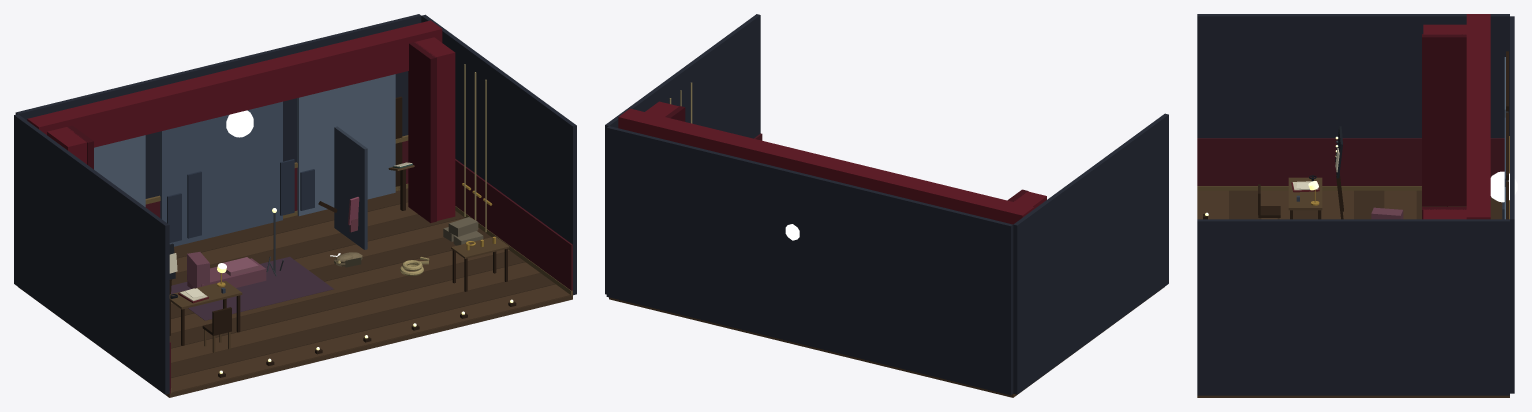
Rendered from stage.glb.
The picture shows the model from 3 angles, left to right: view 1: azimuth 30°, elevation 25°; view 2: azimuth 150°, elevation 25°; view 3: azimuth 270°, elevation 25°; orthographic projection. The views are drawn at different scales.
Visible parts, largest first — view 1: WallLeft, Valance, WallRight, Flat1, Flat2, WallBack, Plank0, Plank1, BandRight, Plank2, LegFold1, Plank3 (+24 smaller); view 2: WallBack, WallLeft, Valance, WallRight, Floor; view 3: WallRight, WallLeft, BandLeft, LegFold0, Valance, WallBack, Floor, SkirtLeft, Plank1, PromptDeskTop, Plank0, Plank4 (+7 smaller).
Boxes of the visible parts, x1,y1,x2,y2 form: WallLeft: [14, 114, 169, 394]; Valance: [27, 20, 442, 147]; WallRight: [421, 14, 576, 295]; Flat1: [160, 101, 282, 246]; Flat2: [297, 74, 395, 216]; WallBack: [15, 14, 421, 198]; Plank0: [171, 284, 570, 392]; Plank1: [171, 273, 554, 377]; BandRight: [455, 159, 572, 294]; Plank2: [171, 262, 539, 363]; LegFold1: [408, 42, 436, 222]; Plank3: [169, 251, 524, 348]; WallBack: [606, 126, 1013, 395]; WallLeft: [1013, 113, 1168, 394]; Valance: [618, 108, 1034, 224]; WallRight: [605, 14, 760, 294]; Floor: [609, 287, 1164, 397]; WallRight: [1197, 219, 1509, 395]; WallLeft: [1197, 14, 1509, 138]; BandLeft: [1197, 138, 1504, 185]; LegFold0: [1422, 34, 1466, 206]; Valance: [1466, 14, 1490, 219]; WallBack: [1510, 16, 1514, 393]; Floor: [1197, 191, 1509, 397]; SkirtLeft: [1197, 186, 1421, 191]; Plank1: [1229, 190, 1259, 219]; PromptDeskTop: [1288, 177, 1322, 210]; Plank0: [1198, 190, 1227, 219]; Plank4: [1323, 190, 1352, 219].
Size of the model in its own units: 10.2 by 4.18 by 6.66.
